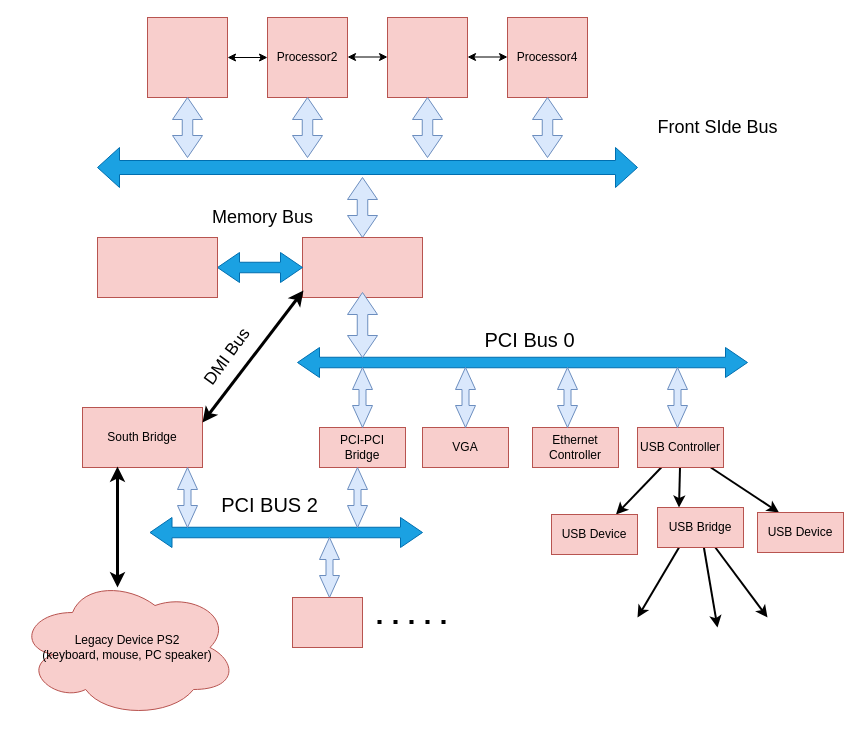
Image size: 861x735. Some labels were removed from this diagram. The shapes that lost their labels are listed below. From the top down, each one's box as (x1, y1, x2, y2) in pixels, then its label:
(146, 16, 228, 98): Processor1
(386, 16, 468, 98): Processor3
(96, 236, 218, 298): DRAM
(302, 236, 422, 298): North Bridge
(292, 596, 362, 648): More PIC devices
